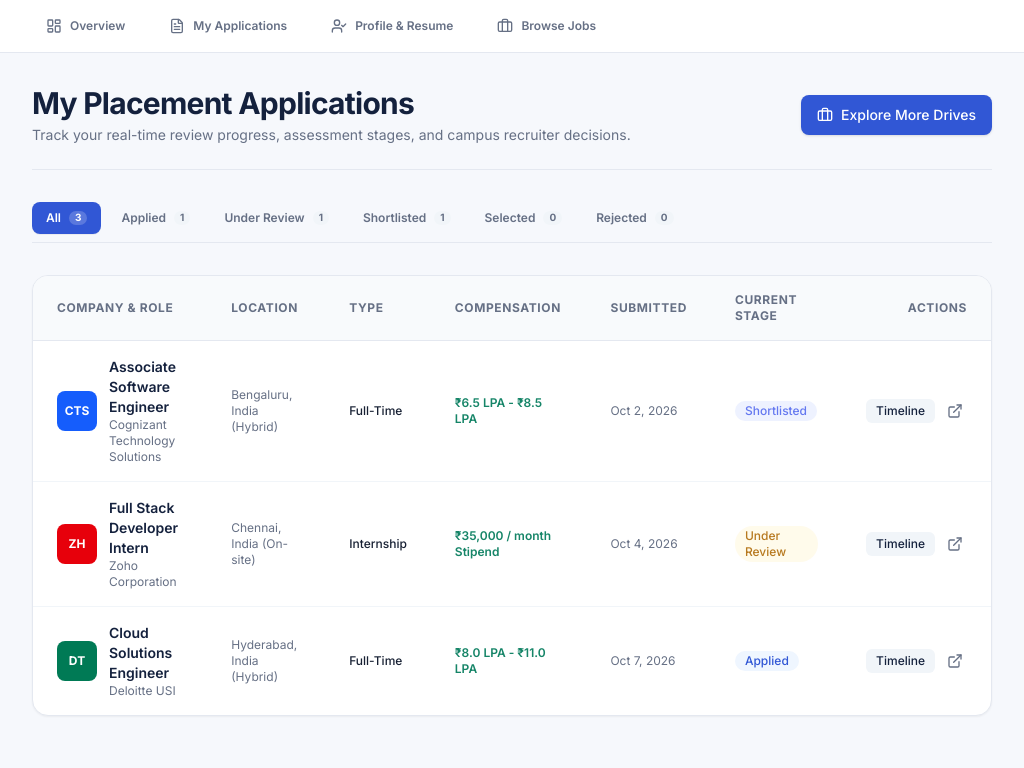
Scenario: MyApplications Component Tests › opens application verification timeline modal when Timeline button is clicked
Click the button "Timeline" in the row of "CTS".
click(901, 411)  # box [866,399,935,423]
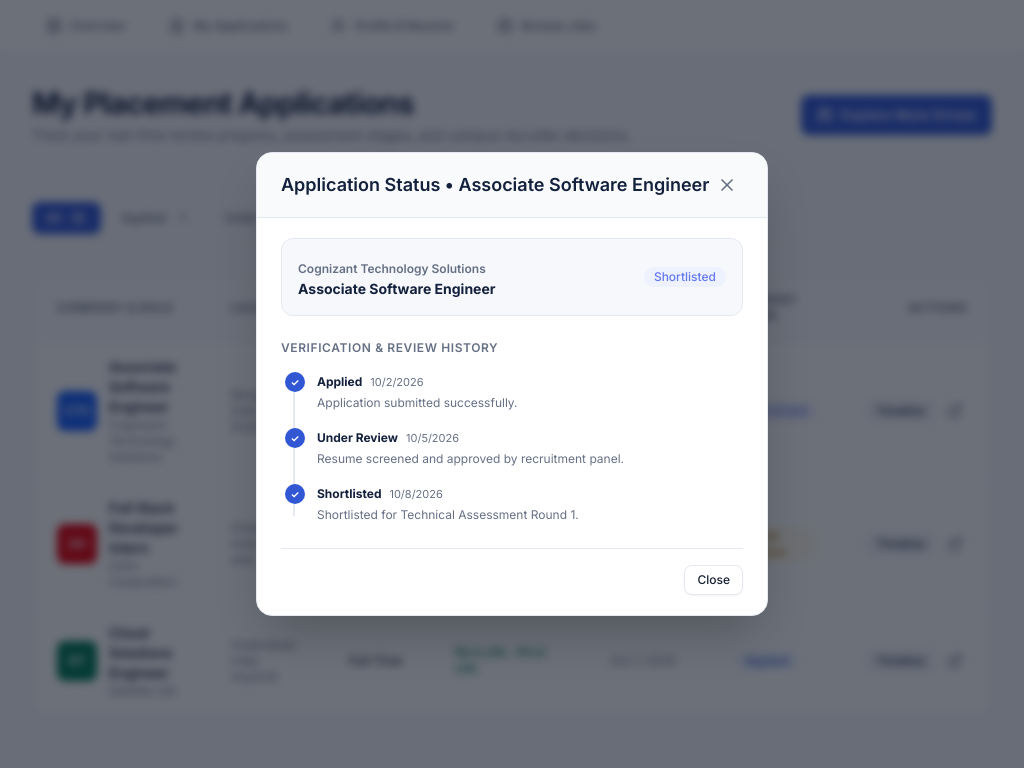
Expected: the heading "Verification & Review History" is shown, [281,340,498,355]
